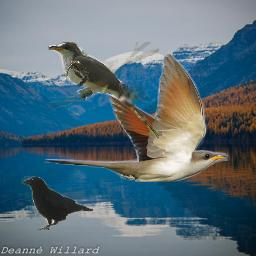Crow: (20, 175, 93, 230)
Cuckoo: (44, 54, 228, 182), (48, 42, 159, 138)
